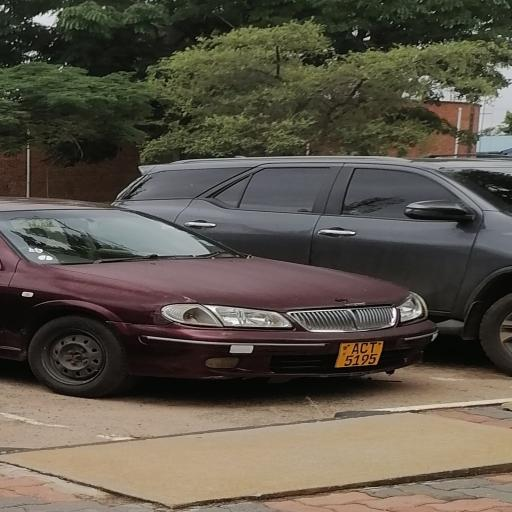number-plates: (340, 337, 380, 368)
